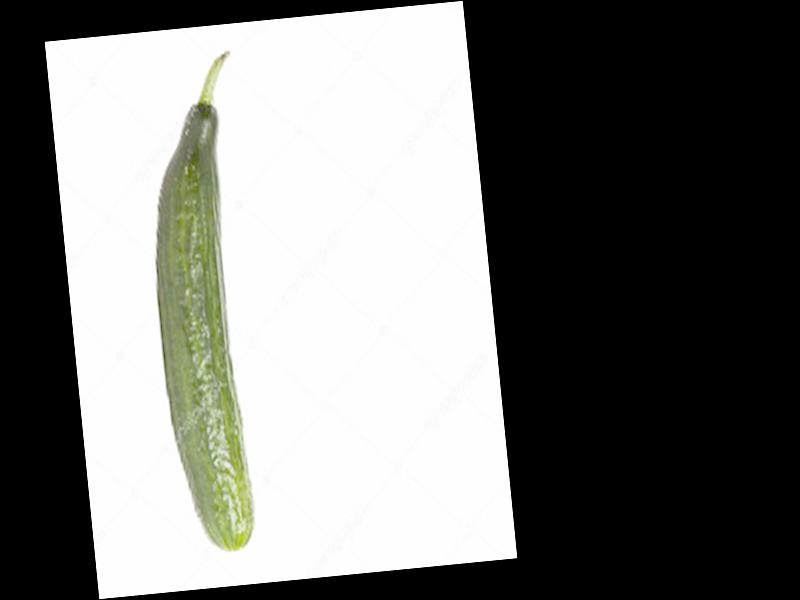Cucumber: (135, 48, 277, 553)
